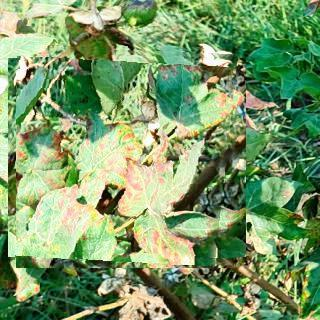blight: (16, 46, 238, 268)
